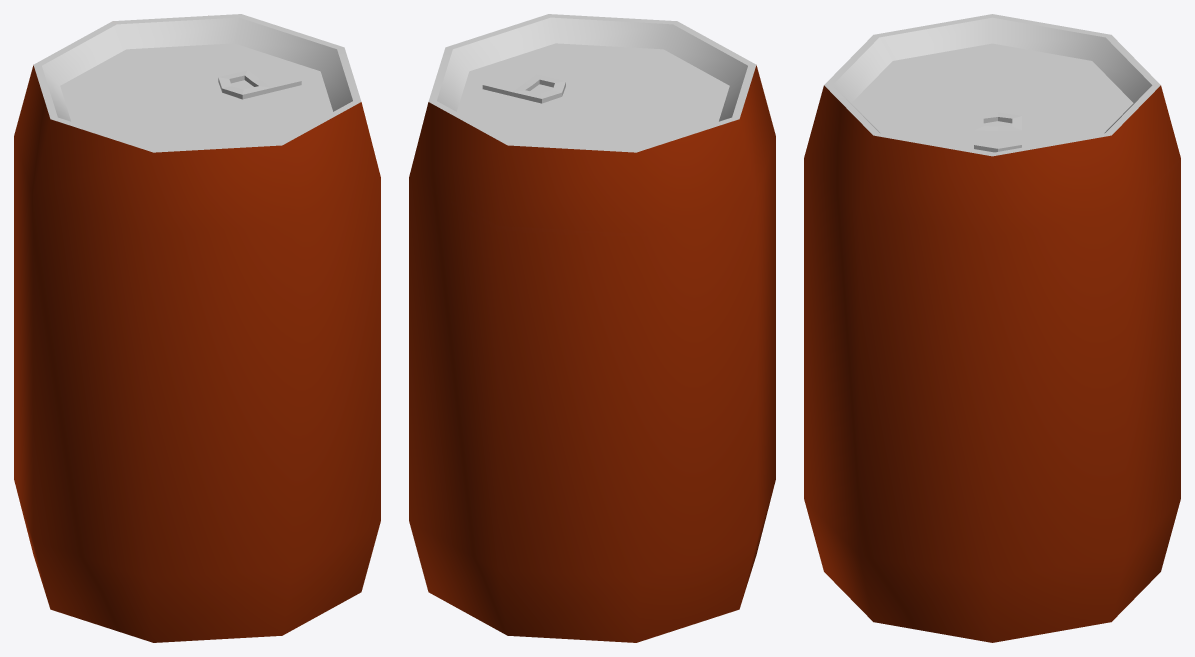
Rendered from soda.glb.
3 renders of one model, left to right at view 1: azimuth 30°, elevation 25°; view 2: azimuth 150°, elevation 25°; view 3: azimuth 270°, elevation 25°, orthographic.
Visible parts, largest first — view 1: Soda; view 2: Soda; view 3: Soda.
Part boxes in pixels (x1,y1,x2,y2): Soda: [14, 14, 380, 642]; Soda: [409, 14, 775, 642]; Soda: [804, 14, 1180, 642].
Size of the model in its own units: 0.1571 by 0.2239 by 0.1571.
Materials: 2 (2 with a texture image).
